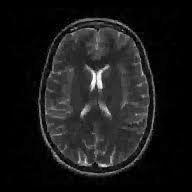Normal_Brain: (2, 2, 192, 192)
